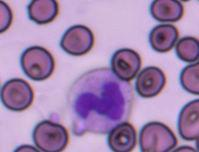N: (66, 67, 132, 133)
